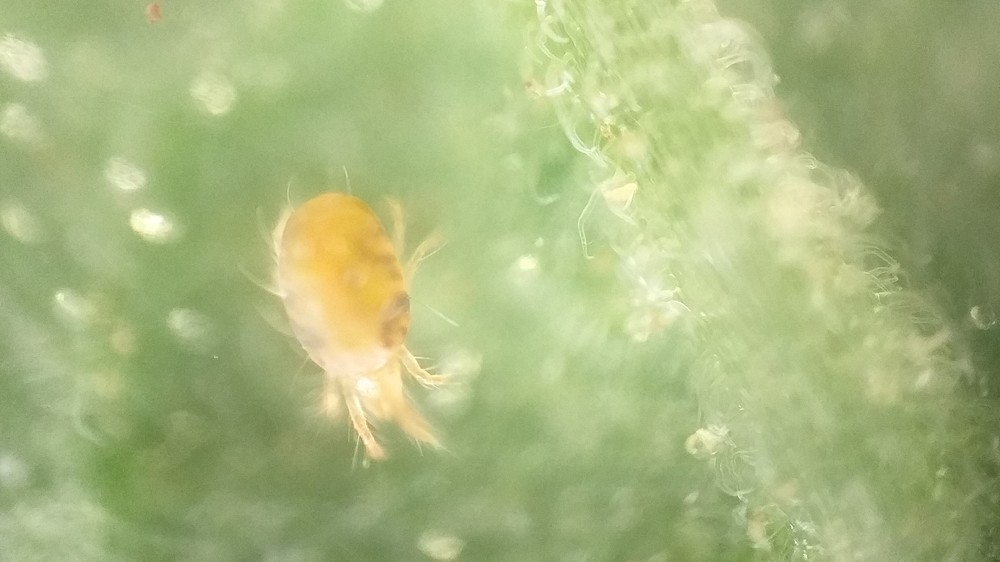Aracnido Rojo: (232, 166, 491, 465)
